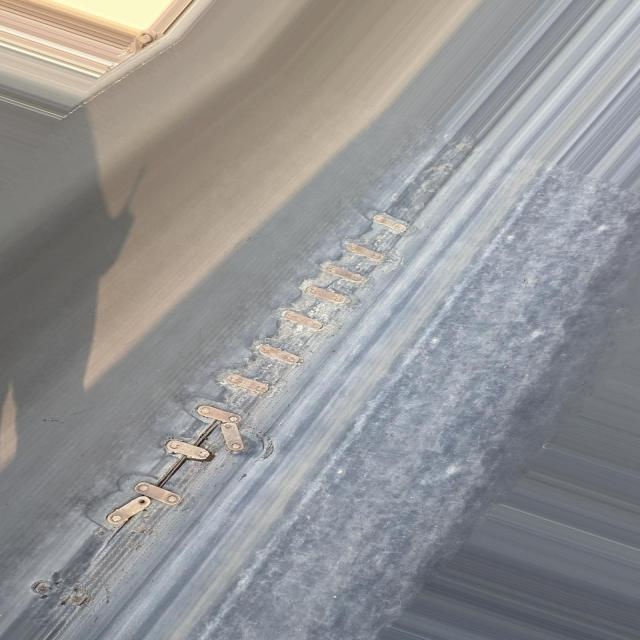patch work: (61, 203, 431, 552)
